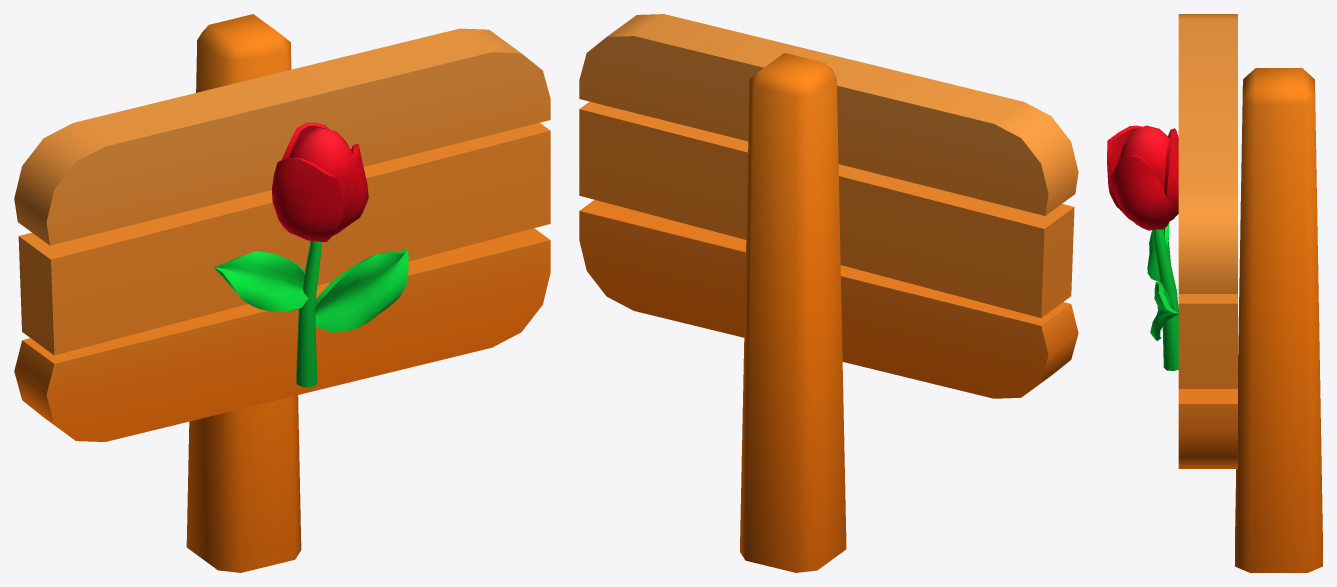
The model's file is Farm_Crop_Sign_Tulip_01.fbx.
3 views of the same model, side by side, from view 1: azimuth 30°, elevation 25°; view 2: azimuth 150°, elevation 25°; view 3: azimuth 270°, elevation 25° (orthographic). The views are drawn at different scales.
Parts seen in each view (by area): view 1: Farm_Crop_Sign_Tulip_01; view 2: Farm_Crop_Sign_Tulip_01; view 3: Farm_Crop_Sign_Tulip_01.
Part boxes in pixels (x1=…): Farm_Crop_Sign_Tulip_01: x1=14, y1=14, x2=550, y2=572; Farm_Crop_Sign_Tulip_01: x1=579, y1=14, x2=1078, y2=572; Farm_Crop_Sign_Tulip_01: x1=1107, y1=14, x2=1322, y2=572.
Bounding box in the file's own units: 90.11 × 88.8 × 36.49.
